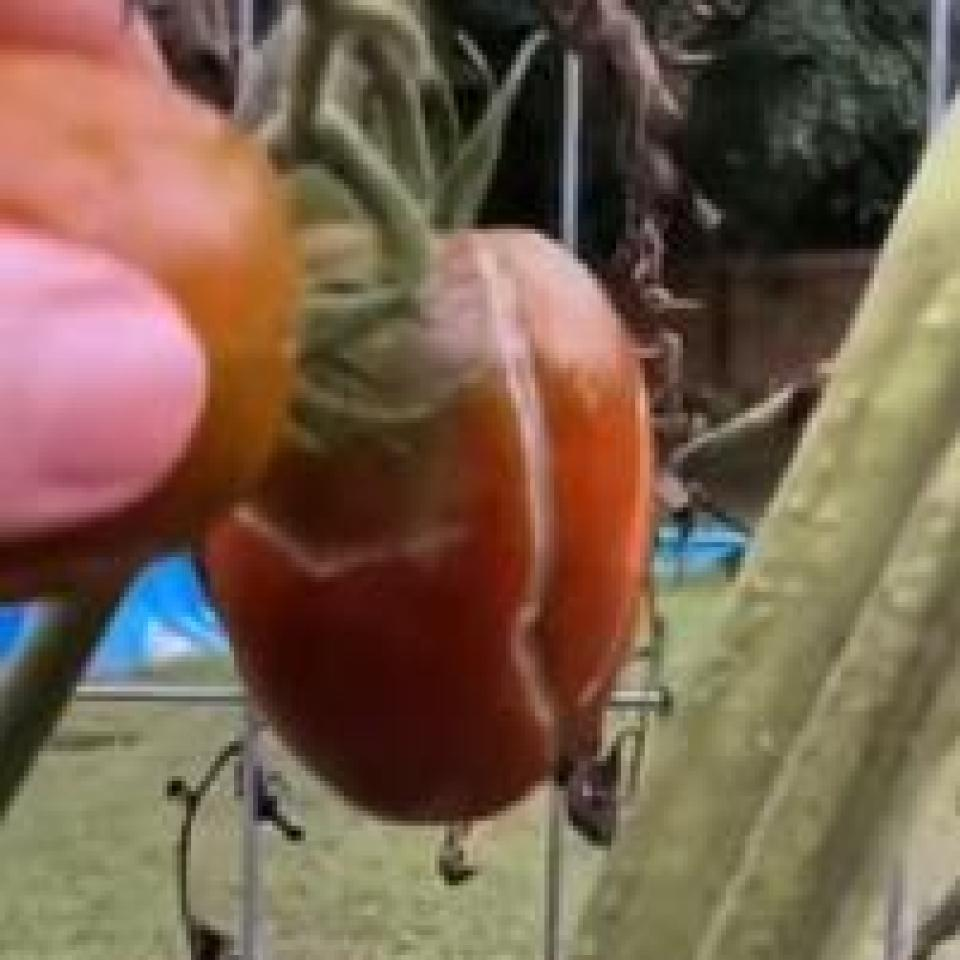Cracking: (430, 208, 584, 810), (196, 475, 477, 603)
